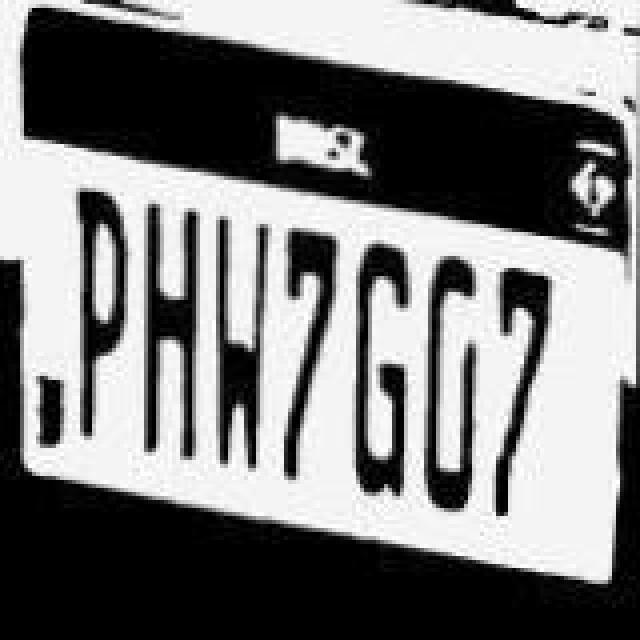7: (486, 266, 558, 510), (278, 226, 342, 482)
D: (422, 258, 486, 506)
G: (354, 244, 418, 496)
H: (138, 202, 210, 458)
P: (68, 190, 136, 442)
W: (204, 216, 272, 468)
